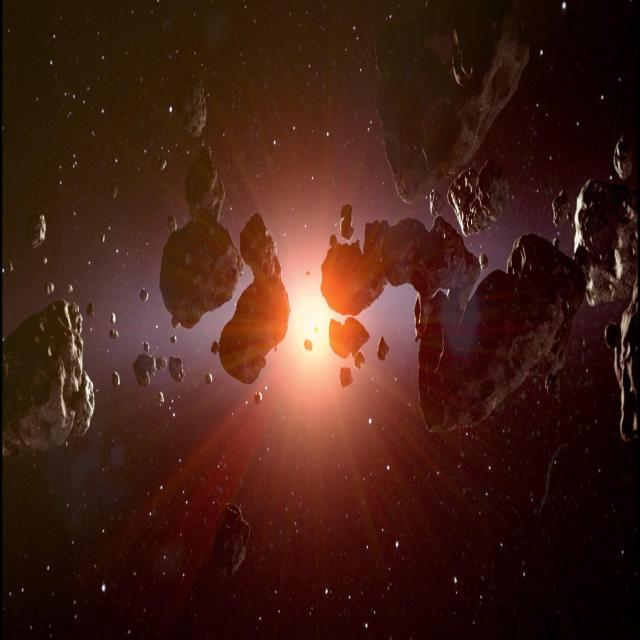other: (284, 285, 351, 381)
